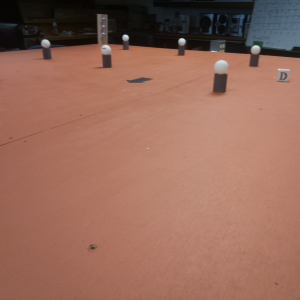obstacle: (212, 60, 228, 94), (101, 45, 111, 67), (41, 38, 51, 58), (250, 46, 259, 65), (178, 38, 187, 55), (122, 34, 129, 50)
